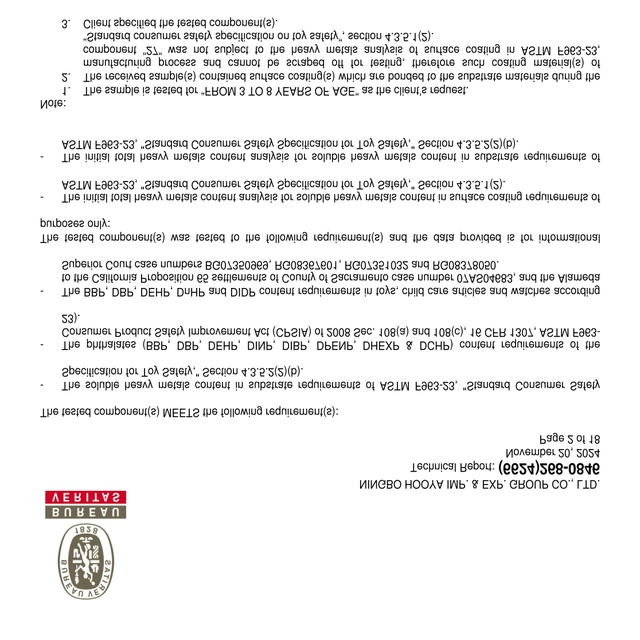bureau_veritas: (42, 483, 131, 607)
